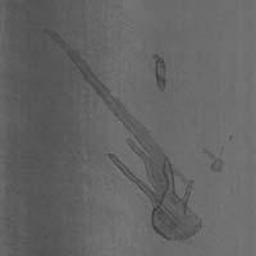Water spot: (44, 29, 204, 242), (201, 146, 225, 173), (151, 54, 166, 93)
